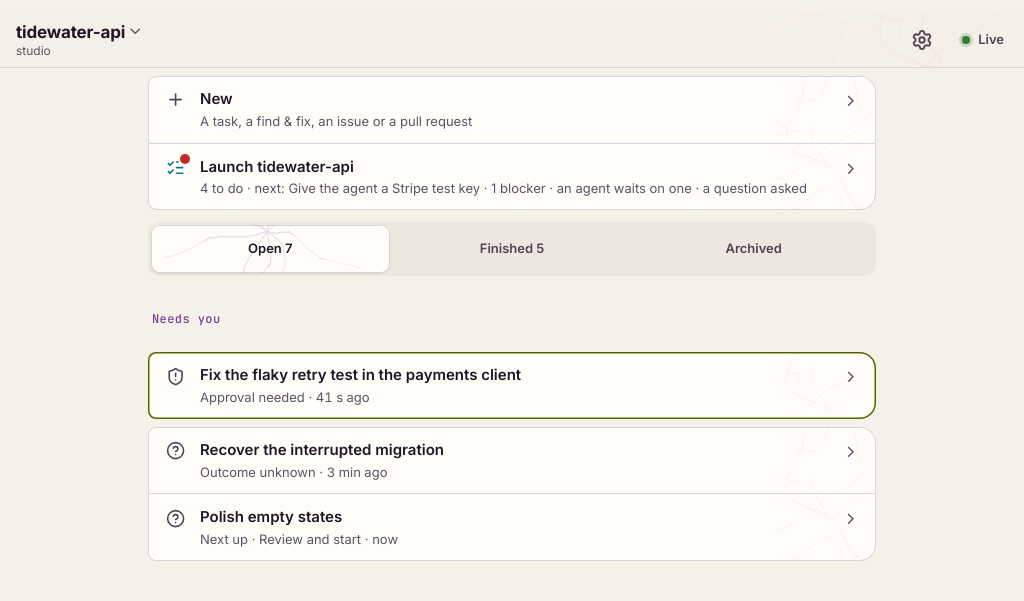
Test: leaves a queued task waiting on the person to Needs you, and leads with the next one
Click the radio button labelled "Open 7": (270, 249) [151,225,390,273]
(page scrolled)
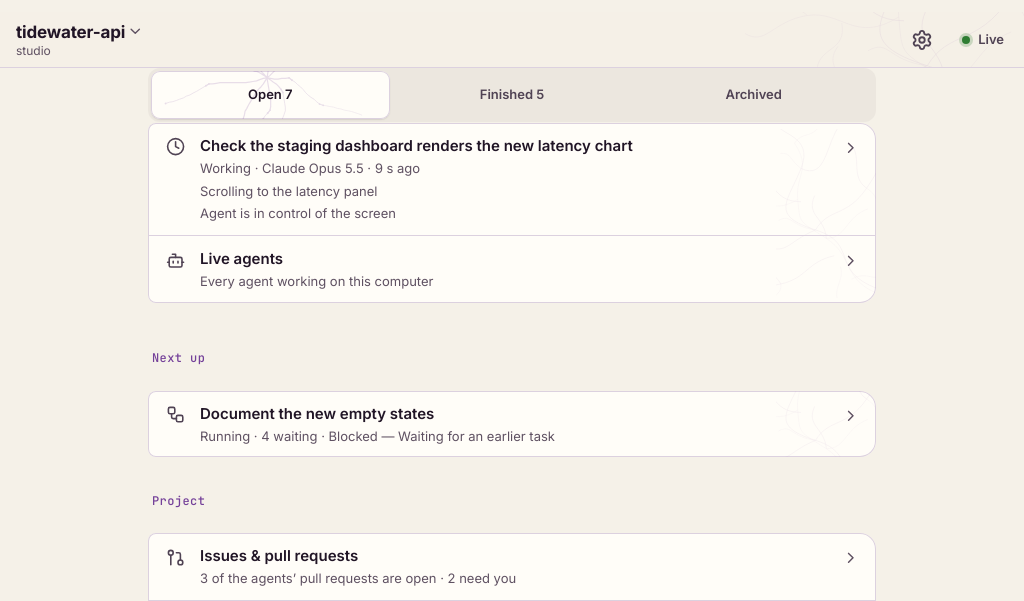
Result: the button "Polish empty states" is gone
